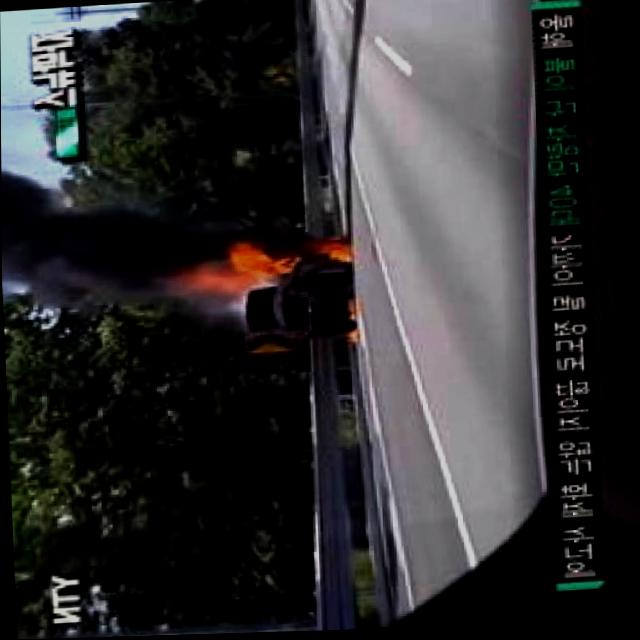Fire: (211, 246, 287, 295), (316, 241, 350, 264)
Smoke: (1, 160, 233, 328)
